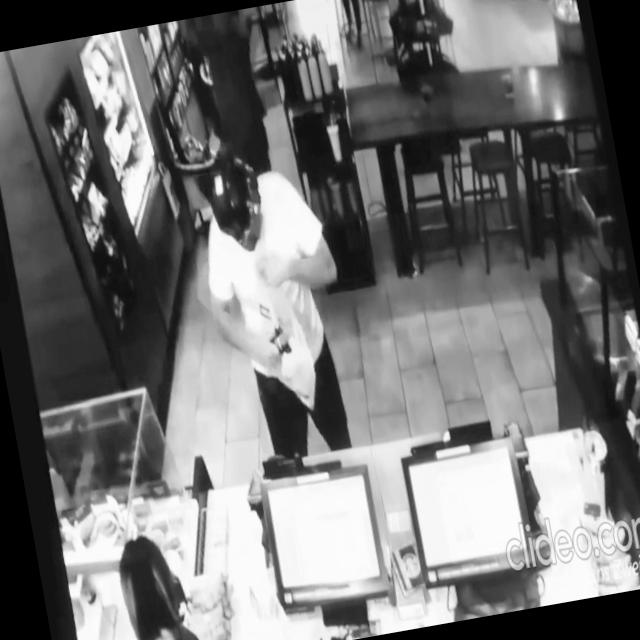gun: (263, 321, 300, 362)
person: (176, 8, 286, 194), (111, 516, 246, 640), (334, 0, 375, 59)
person with a gun: (185, 139, 368, 467)
